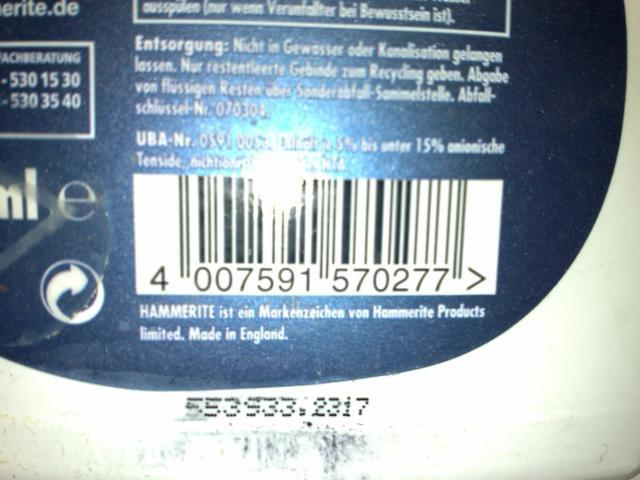Barcode: (140, 177, 472, 294)
